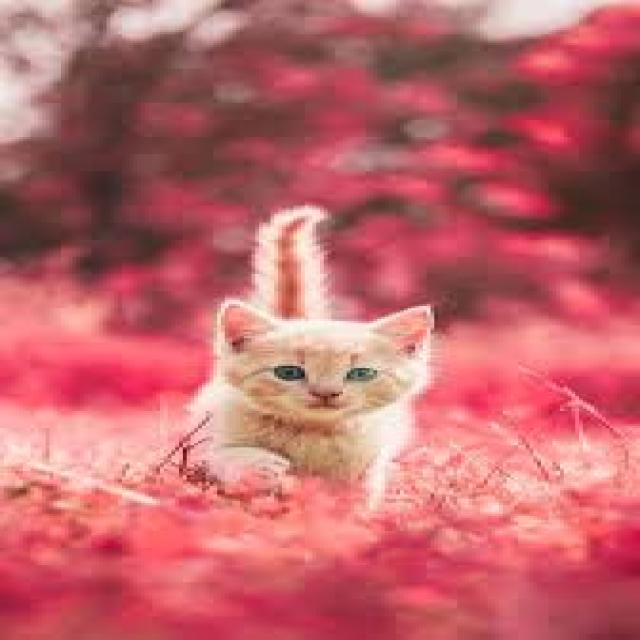Cat: (162, 200, 442, 516)
